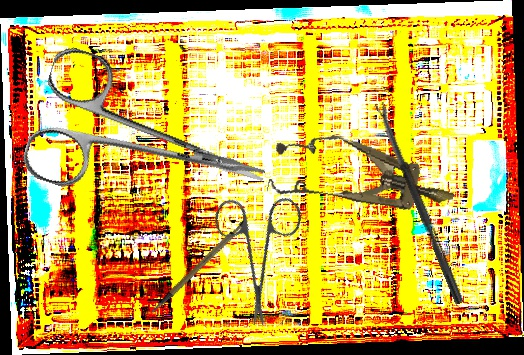Iris Scissors: (17, 43, 284, 245), (176, 166, 341, 331)
Scalpel Handle: (136, 217, 259, 315)
Speculum: (266, 124, 461, 232)
Surgical Spoon: (374, 100, 466, 306)
